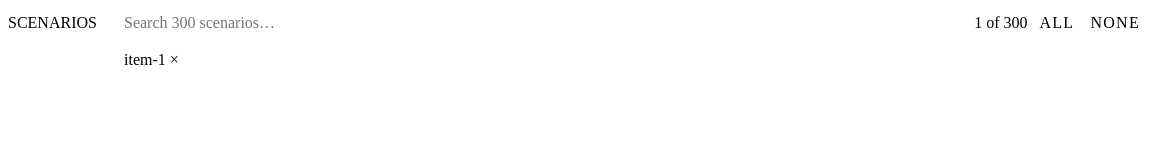
Test: FieldPicker — large field › says so when a search matches nothing
Step 1. Type "zzz" into the search field → (242, 23), box [112,8,372,38]
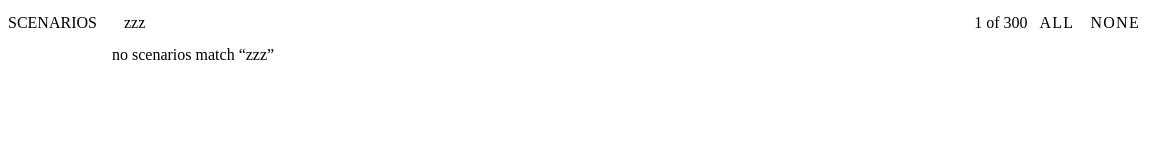
Now the text "no scenarios match “zzz”" is shown, box [112,46,274,63]
